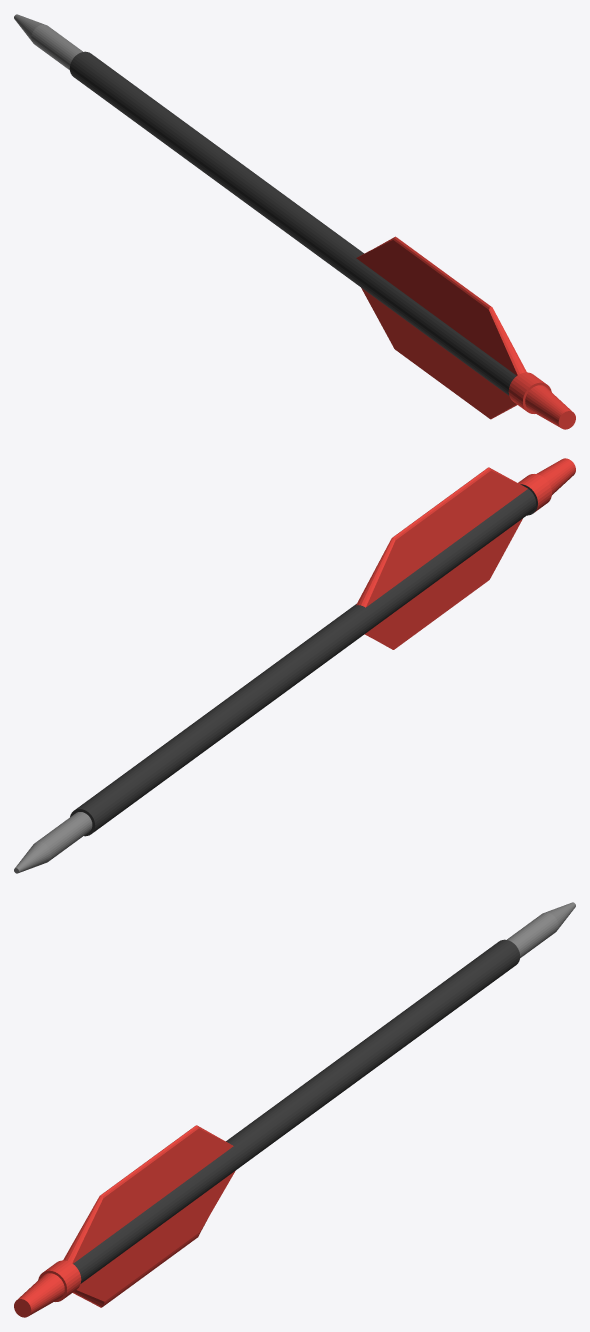
Rendered from Arrow.glb.
3 views of the same model, one above another, from view 1: azimuth 30°, elevation 25°; view 2: azimuth 150°, elevation 25°; view 3: azimuth 330°, elevation 25° (orthographic).
Parts seen in each view (by area): view 1: Arrow; view 2: Arrow; view 3: Arrow.
Part boxes in pixels (x1,y1,x2,y2): Arrow: [14, 14, 575, 429]; Arrow: [14, 458, 575, 873]; Arrow: [14, 902, 575, 1317].
Size of the model in its own units: 0.1065 by 0.3917 by 3.47.
